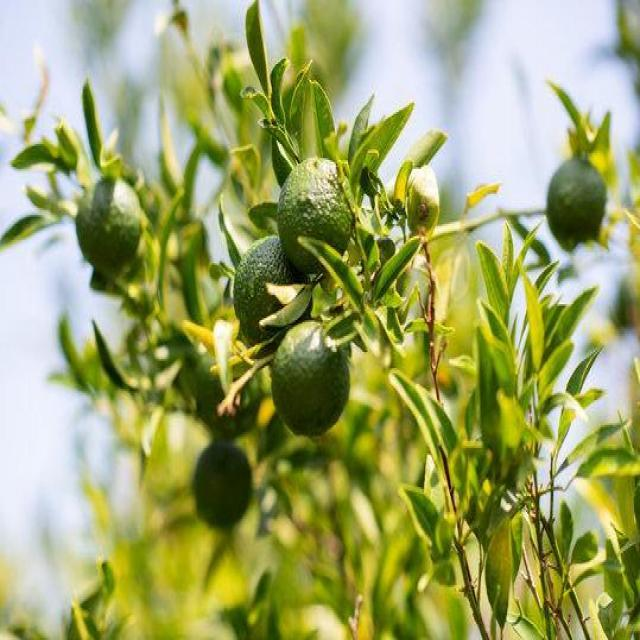Jeruk Belum Matang: (276, 158, 358, 278), (273, 322, 353, 439), (238, 237, 312, 351), (75, 175, 146, 278), (547, 157, 607, 250)
